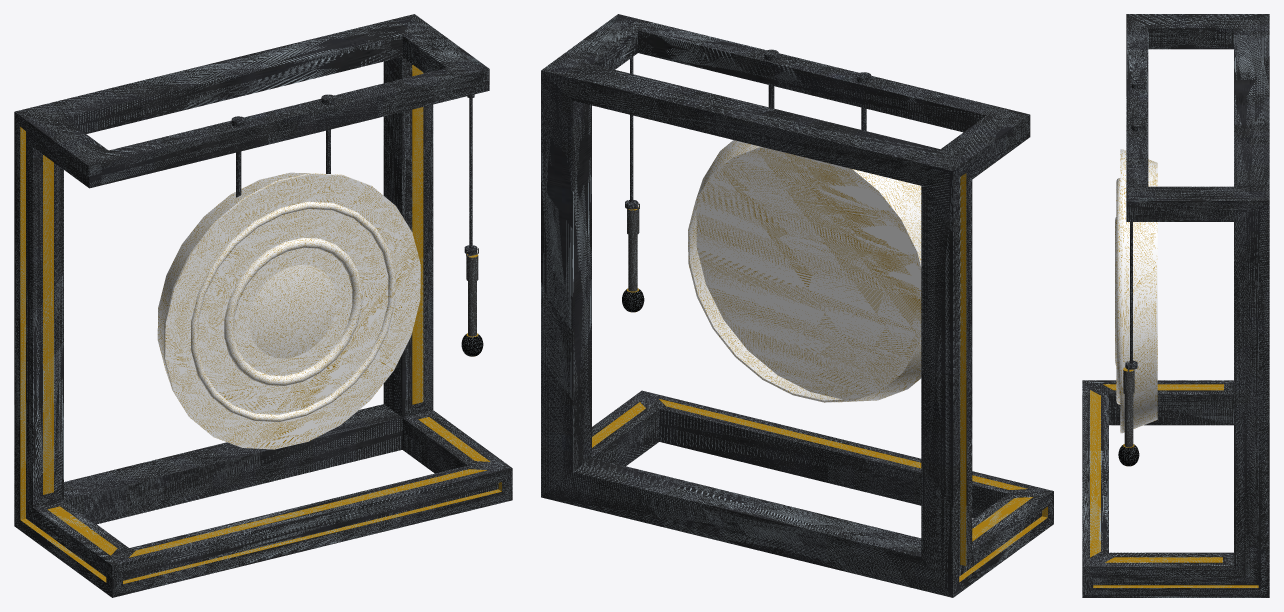
3 views of the same model, side by side, from view 1: azimuth 30°, elevation 25°; view 2: azimuth 150°, elevation 25°; view 3: azimuth 270°, elevation 25° (orthographic). The views are drawn at different scales.
Parts seen in each view (by area): view 1: SketchUp (×14); view 2: SketchUp (×7); view 3: SketchUp (×13).
Part boxes in pixels (bbox=[...]): SketchUp (×14): bbox=[14, 14, 512, 597]; SketchUp (×7): bbox=[541, 14, 1053, 597]; SketchUp (×13): bbox=[1082, 14, 1269, 597].
Bounding box in the file's own units: 94.41 × 40 × 94.52.
Materials: 6 (1 with a texture image).
